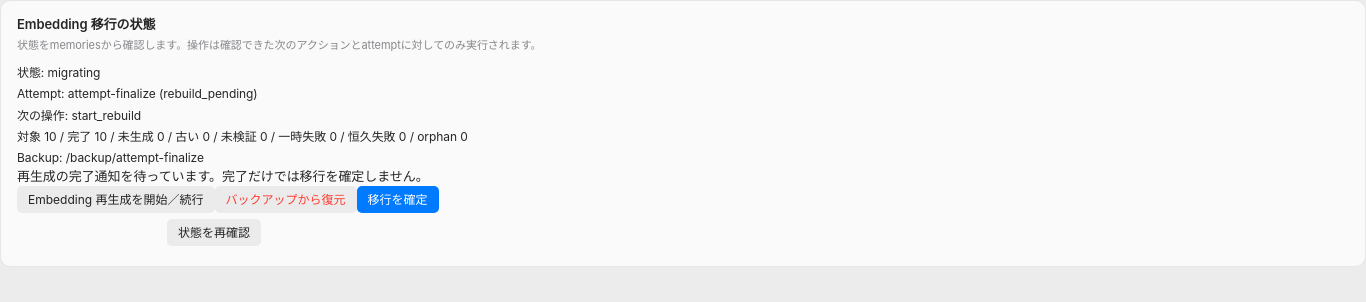
EmbeddingMigrationPanel › rechecks same-attempt completion progress before the first finalize
Click the button "移行を確定" at x=398, y=199, box [356, 186, 438, 213]
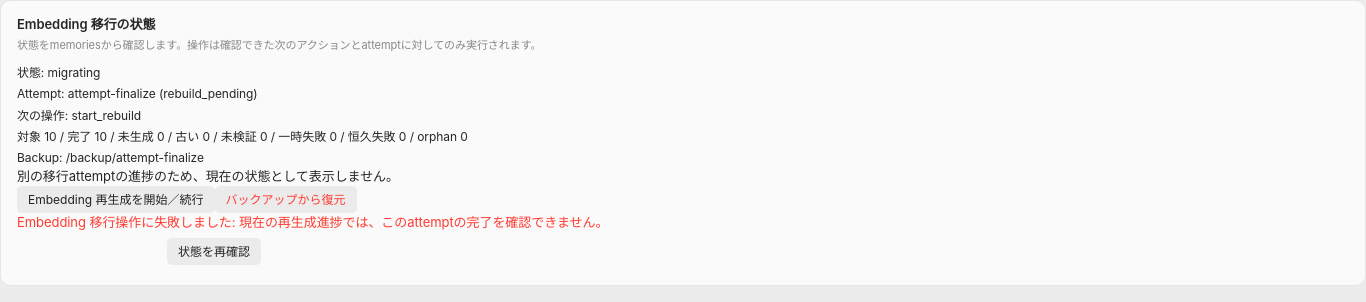
Result: the text "Embedding 移行操作に失敗しました: 現在の再生成進捗では、このattemptの完了を確認できません。" is shown at [17, 214, 608, 230]
